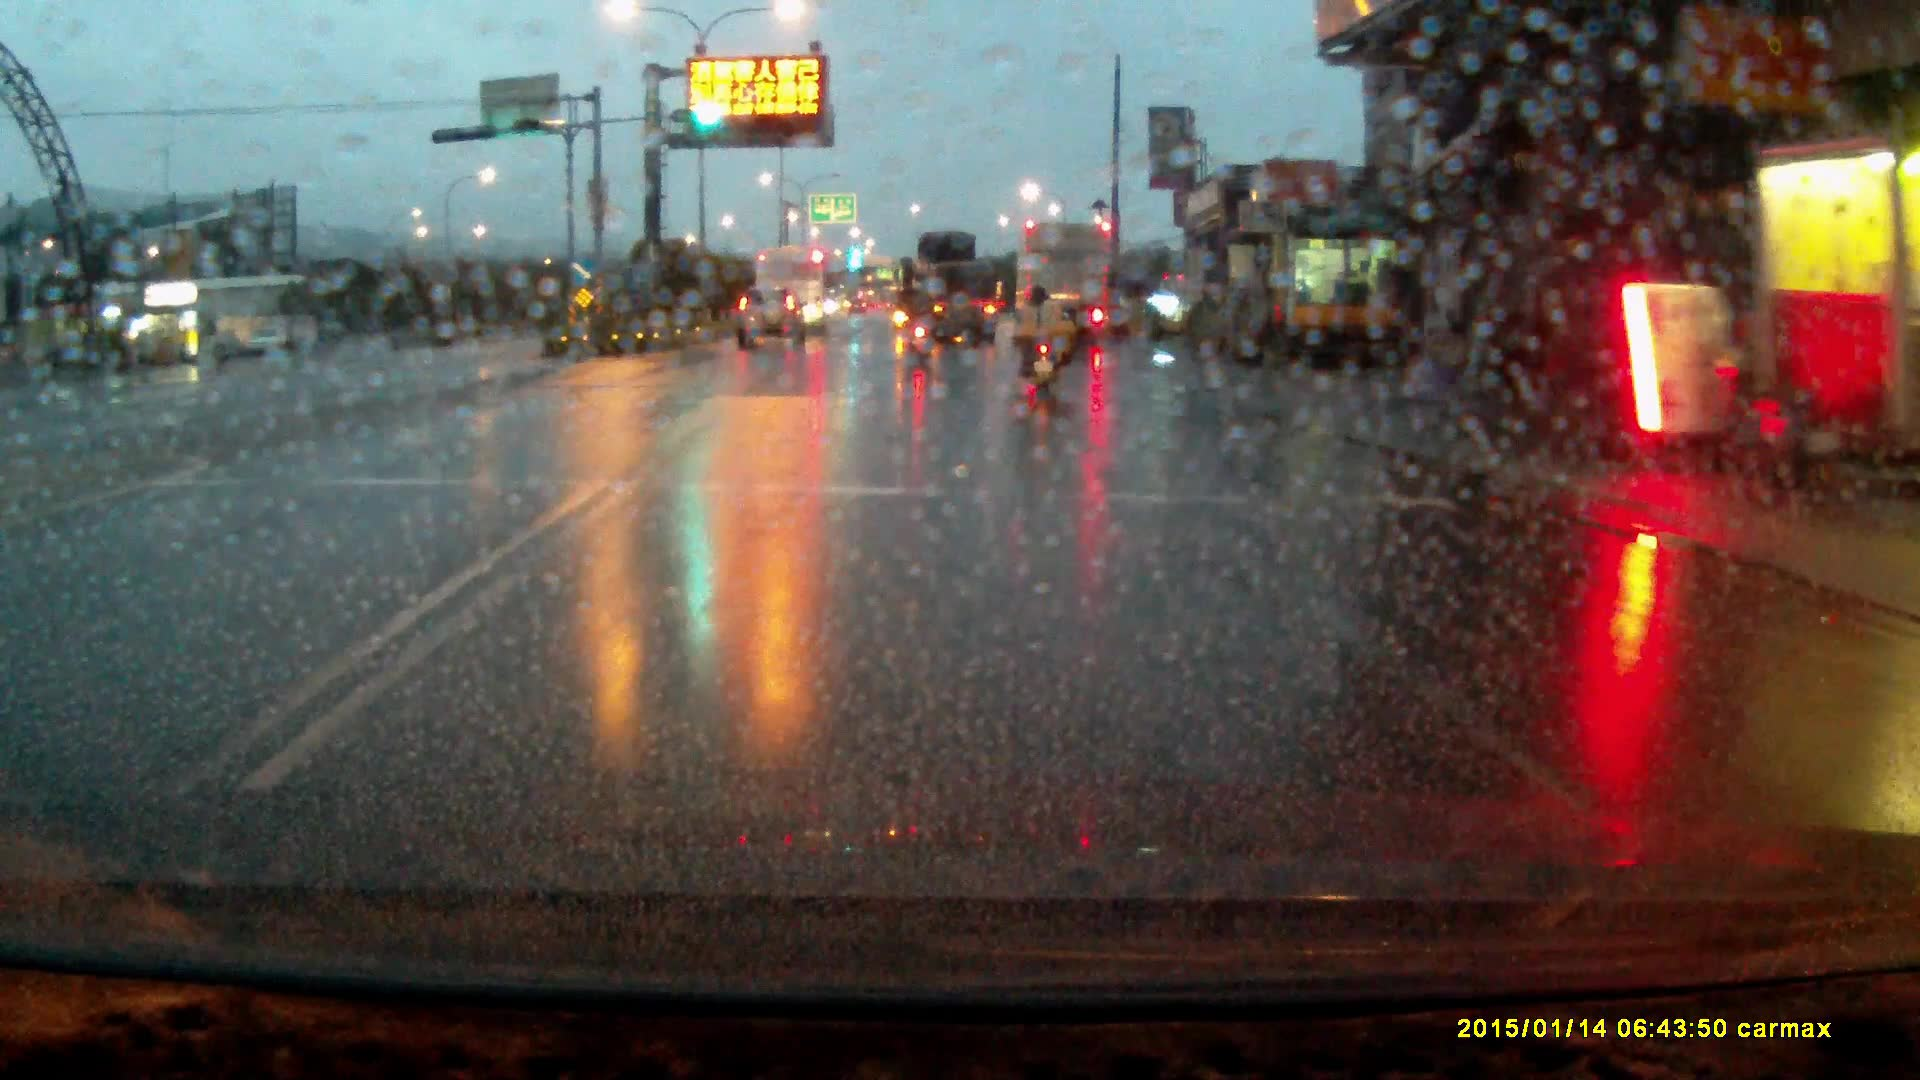rider: (1018, 287, 1071, 406), (901, 281, 939, 368)
vehicle: (1016, 219, 1117, 346), (905, 232, 999, 347), (756, 246, 830, 333), (736, 289, 809, 355)
